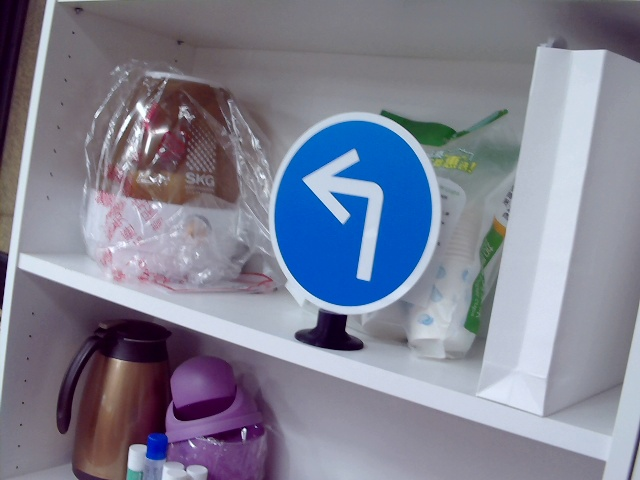turn_left: (301, 144, 383, 281)
